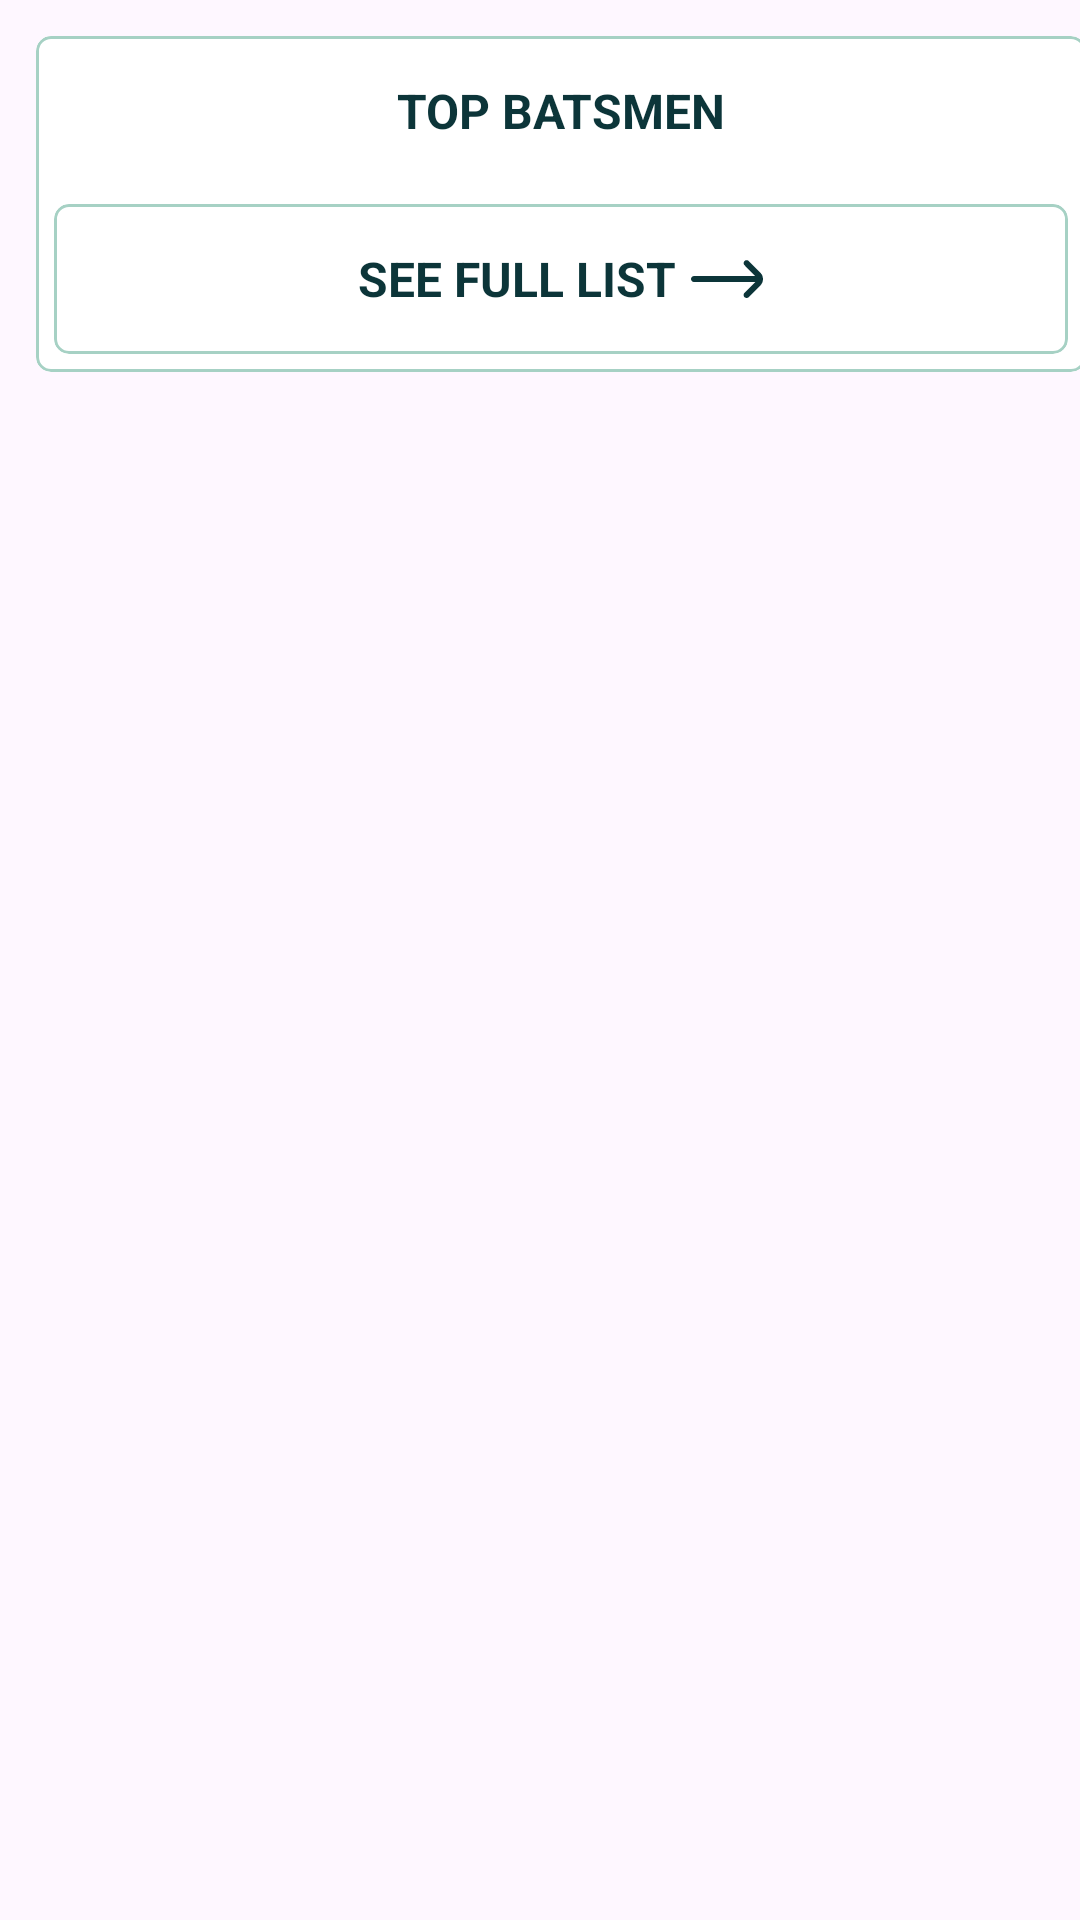

Locate icon controls on the screen. Image size 1080*1920, boxes as (x1, y1, x2, y2).
swipe right: (691, 260, 763, 298)
